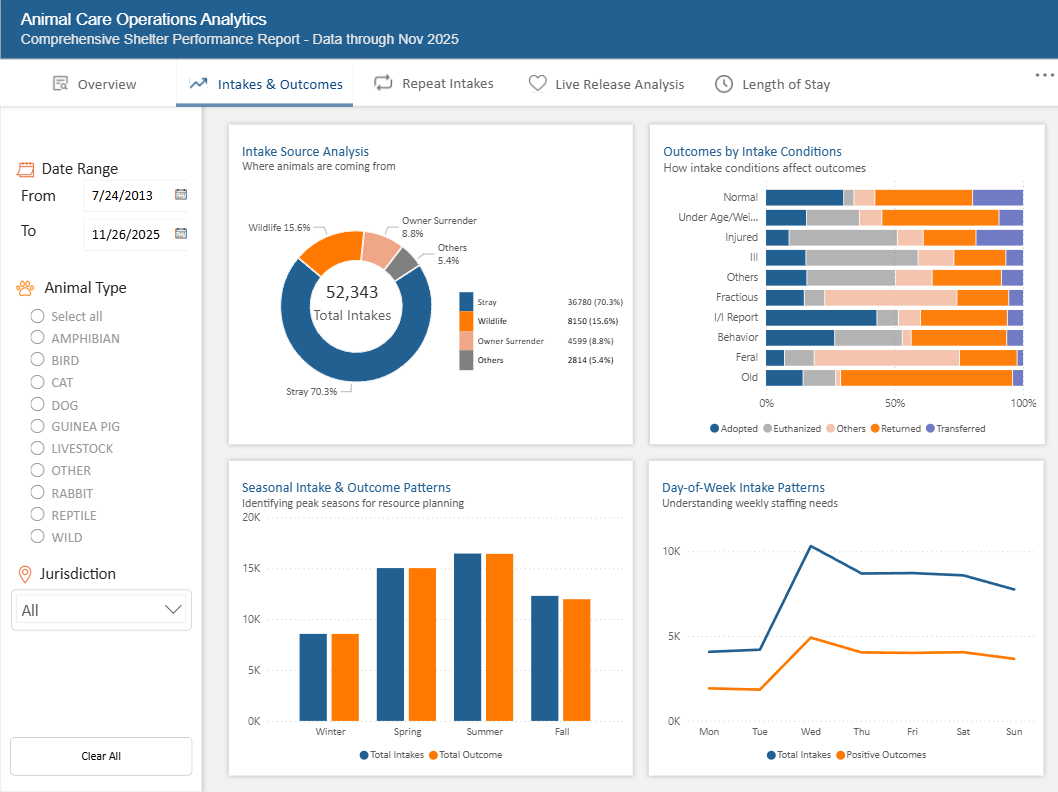

Layout of this report page (visuals, bound fields, positions):
{"tool":"powerbi","page":{"name":"Intakes & Outcomes","canvas":[1200,900],"ordinal":1},"visuals":[{"type":"shape","title":"Intake Source Analysis","box":[258.6,144.2,456.5,361.8],"z":1000},{"type":"cardVisual","fields":{"Data":["dataset.Total Intakes"]},"box":[322.9,297.1,152.9,95.7],"z":2000},{"type":"shape","box":[0,65.6,228.9,834.4],"z":3000},{"type":"shape","box":[0,9.9,1280.5,113.1],"z":4000},{"type":"shape","box":[0,0.8,1200,69.2],"z":5000},{"type":"textbox","box":[18.4,9.9,456.5,33.9],"z":6000},{"type":"textbox","box":[18.4,34.6,668.6,34.6],"z":7000},{"type":"slicer","fields":{"Values":["dataset.Intake Date"]},"box":[81.8,196.4,134.5,102.7],"z":8000},{"type":"textbox","box":[11.8,178.2,127.3,32.7],"z":9000},{"type":"image","box":[18.2,184.5,20,20],"z":10000},{"type":"textbox","box":[18.9,207.8,63.3,33.3],"z":11000},{"type":"textbox","box":[17.8,247.8,64.4,33.3],"z":12000},{"type":"listSlicer","fields":{"Values":["dataset.Animal Type"]},"box":[28.9,344.4,187.8,280],"z":13000},{"type":"textbox","box":[18.4,312.3,130,32.5],"z":14000},{"type":"image","box":[18.9,318.9,20,20],"z":15000},{"type":"textbox","box":[17.8,636.7,117.8,32.2],"z":16000},{"type":"image","box":[18.9,643.3,20,20],"z":17000},{"type":"slicer","fields":{"Values":["dataset.Jurisdiction"]},"box":[12.5,670,203.8,46.2],"z":18000},{"type":"actionButton","box":[11.3,836.7,206.3,43.8],"z":19000},{"type":"actionButton","box":[19,70,180,54],"z":20000},{"type":"actionButton","box":[198.8,70,200,53.8],"z":21000},{"type":"clusteredColumnChart","title":"Seasonal Intake & Outcome Patterns","fields":{"Category":["Date.Season"],"Y":["dataset.Total Intakes","dataset.Outcome Count"]},"box":[258.6,524.3,456.5,356.2],"z":22000},{"type":"lineChart","title":"Day-of-Week Intake Patterns","fields":{"Y":["dataset.Total Intakes","Sum(dataset.Positive Outcome)"],"Category":["Date.DayName"]},"box":[734,524,446,356],"z":23000},{"type":"donutChart","fields":{"Y":["dataset.Total Intakes"],"Category":["dataset.Intake Type Short"]},"box":[258.6,195.7,288.6,310],"z":24000},{"type":"hundredPercentStackedBarChart","title":"Outcomes by Intake Conditions","fields":{"Category":["dataset.Intake Condition Short"],"Y":["dataset.Total Intakes"],"Series":["dataset.Outcome Type Short"]},"box":[734.9,144.2,446.6,361.8],"z":25000},{"type":"tableEx","fields":{"Values":["Intake Source Analysis Table. ","Intake Source Analysis Table.Intake Type Short","Intake Source Analysis Table.Intakes(Percent)"]},"box":[512.9,295.7,202.9,154.3],"z":26000},{"type":"actionButton","box":[578.8,70,210,55],"z":27000},{"type":"actionButton","box":[788.8,70,180,55],"z":28000},{"type":"actionButton","box":[398.8,70,180,52.5],"z":29000}]}

Visuals, with their boxes on the page's 1200x900 design canvas (x1, y1, x2, y2). These are canvas units, not pixel positions in the 1058x792 screenshot, which may show the page scaled, cropped or inside an application window:
"Intake Source Analysis" shape: left=259, top=144, right=715, bottom=506
cardVisual - dataset.Total Intakes: left=323, top=297, right=476, bottom=393
shape: left=0, top=66, right=229, bottom=900
shape: left=0, top=10, right=1280, bottom=123
shape: left=0, top=1, right=1200, bottom=70
textbox: left=18, top=10, right=475, bottom=44
textbox: left=18, top=35, right=687, bottom=69
slicer - dataset.Intake Date: left=82, top=196, right=216, bottom=299
textbox: left=12, top=178, right=139, bottom=211
image: left=18, top=184, right=38, bottom=204
textbox: left=19, top=208, right=82, bottom=241
textbox: left=18, top=248, right=82, bottom=281
listSlicer - dataset.Animal Type: left=29, top=344, right=217, bottom=624
textbox: left=18, top=312, right=148, bottom=345
image: left=19, top=319, right=39, bottom=339
textbox: left=18, top=637, right=136, bottom=669
image: left=19, top=643, right=39, bottom=663
slicer - dataset.Jurisdiction: left=12, top=670, right=216, bottom=716
actionButton: left=11, top=837, right=218, bottom=880
actionButton: left=19, top=70, right=199, bottom=124
actionButton: left=199, top=70, right=399, bottom=124
"Seasonal Intake & Outcome Patterns" clusteredColumnChart: left=259, top=524, right=715, bottom=880
"Day-of-Week Intake Patterns" lineChart: left=734, top=524, right=1180, bottom=880
donutChart - dataset.Total Intakes x dataset.Intake Type Short: left=259, top=196, right=547, bottom=506
"Outcomes by Intake Conditions" hundredPercentStackedBarChart: left=735, top=144, right=1182, bottom=506
tableEx - Intake Source Analysis Table.  x Intake Source Analysis Table.Intake Type Short: left=513, top=296, right=716, bottom=450
actionButton: left=579, top=70, right=789, bottom=125
actionButton: left=789, top=70, right=969, bottom=125
actionButton: left=399, top=70, right=579, bottom=122
